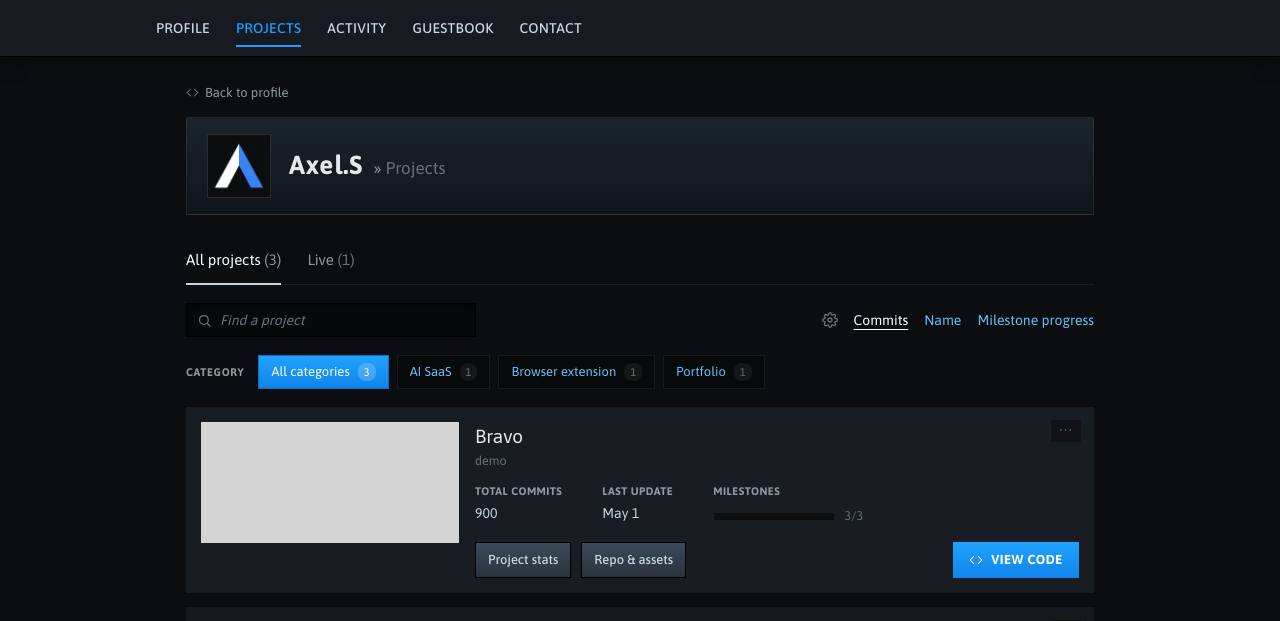
Test: ProjectsLibrary › filters by category chips, sorted with All categories first
This screenshot has width=1280, height=621.
Expected: the button "All categories 3" is shown, [258, 355, 389, 388]
Click the button "AI SaaS 1" at (444, 372), box [397, 355, 490, 388]
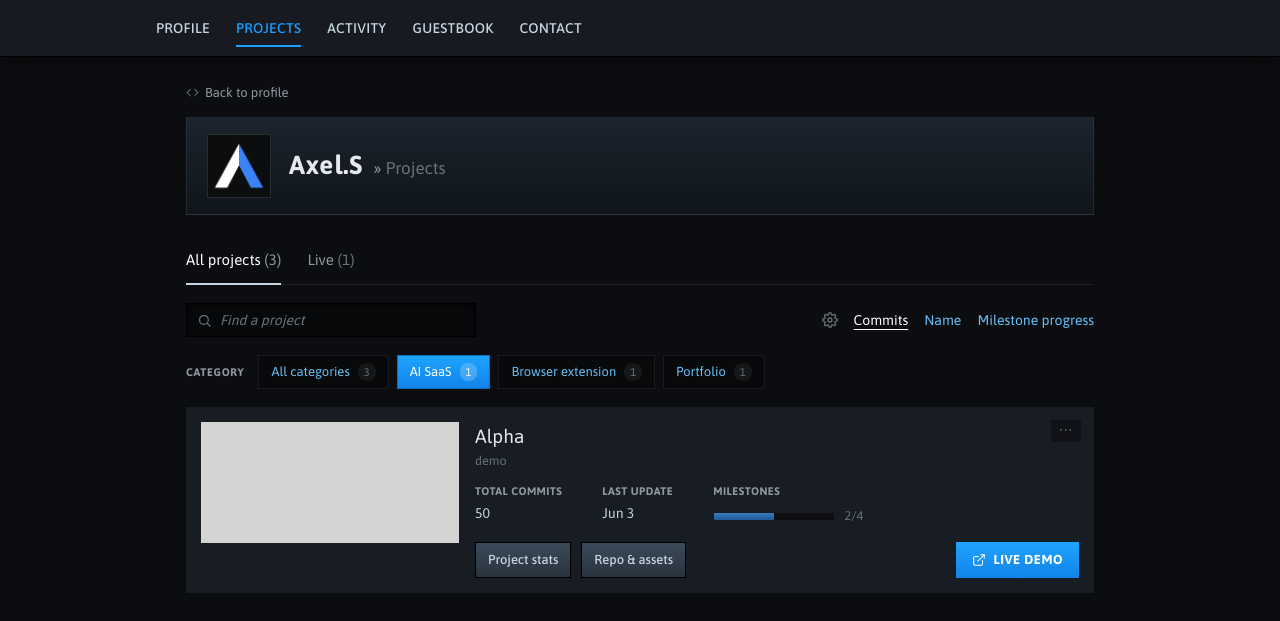
Expected: the link "Alpha" is shown, [475, 424, 524, 446]
Expected: the link "Bravo" is gone
